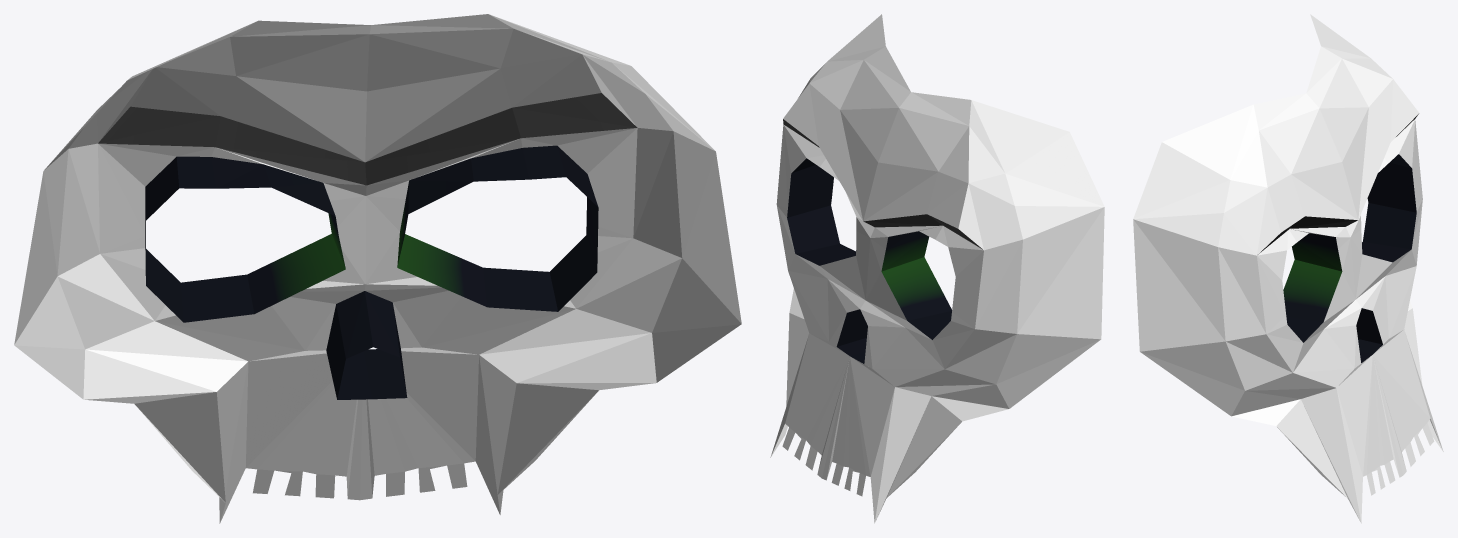
The model's file is SKULL MASK.fbx.
The picture shows the model from 3 angles, left to right: view 1: azimuth 30°, elevation 25°; view 2: azimuth 150°, elevation 25°; view 3: azimuth 270°, elevation 25°; orthographic projection. The views are drawn at different scales.
Visible parts, largest first — view 1: SKULL_MASK; view 2: SKULL_MASK; view 3: SKULL_MASK.
Boxes of the visible parts, x1=… form: SKULL_MASK: x1=14, y1=14, x2=741, y2=523; SKULL_MASK: x1=770, y1=14, x2=1104, y2=523; SKULL_MASK: x1=1133, y1=14, x2=1443, y2=523.
Bounding box in the file's own units: 20.98 × 20.45 × 14.8.
